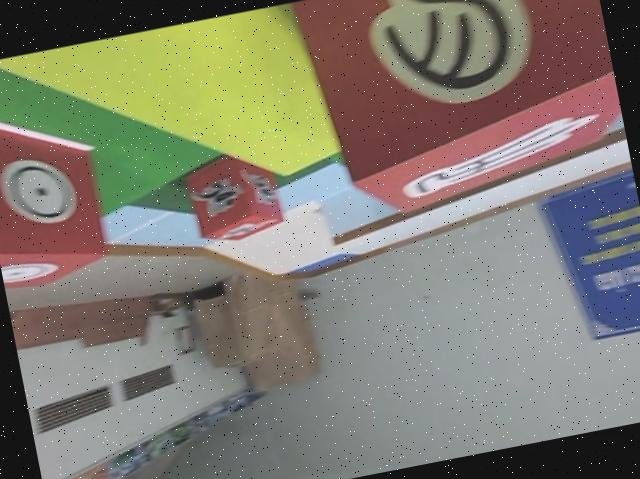R1: (180, 144, 285, 248)
R2 Fake: (288, 0, 632, 228)
R2 Real: (0, 89, 114, 291)
